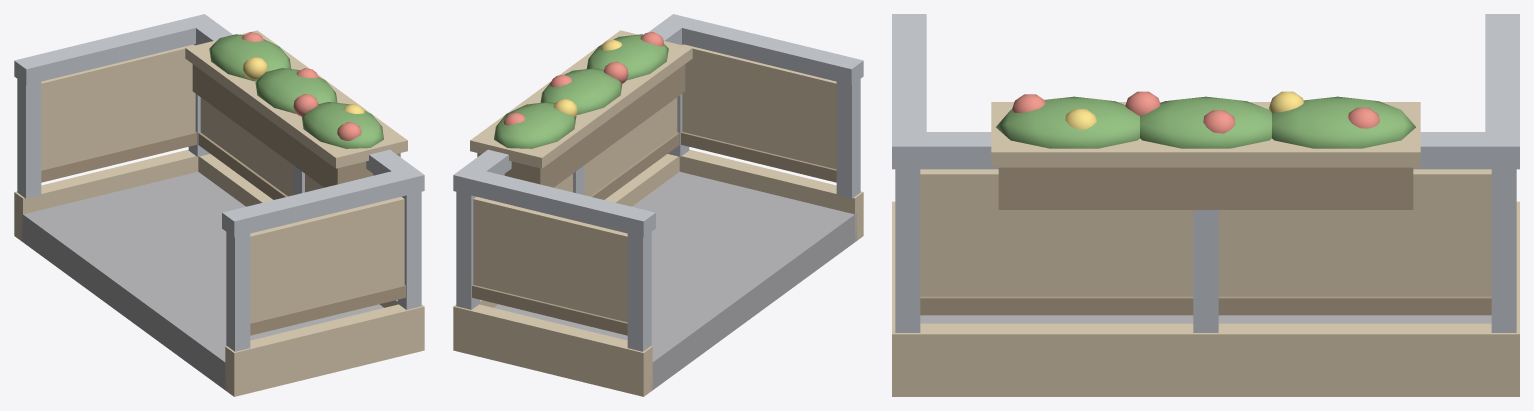
Rendered from building.balcony.glb.
The picture shows the model from 3 angles, left to right: view 1: azimuth 30°, elevation 25°; view 2: azimuth 150°, elevation 25°; view 3: azimuth 270°, elevation 25°; orthographic projection. The views are drawn at different scales.
Parts seen in each view (by area): view 1: Paint, Stone, Metal, PaintDark, Leaf, FruitRed, FruitGold; view 2: Paint, Stone, Metal, PaintDark, Leaf, FruitRed, FruitGold; view 3: Paint, PaintDark, Metal, Leaf, Stone, FruitRed, FruitGold.
Part boxes in pixels (left/top/right/bottom): Paint: left=14, top=30, right=424, bottom=396; Stone: left=20, top=172, right=383, bottom=390; Metal: left=14, top=14, right=424, bottom=351; PaintDark: left=41, top=64, right=405, bottom=335; Leaf: left=209, top=34, right=383, bottom=148; FruitRed: left=241, top=32, right=361, bottom=140; FruitGold: left=243, top=57, right=364, bottom=113; Paint: left=453, top=30, right=863, bottom=396; Stone: left=494, top=172, right=857, bottom=391; Metal: left=453, top=14, right=863, bottom=351; PaintDark: left=472, top=64, right=836, bottom=335; Leaf: left=494, top=34, right=668, bottom=148; FruitRed: left=503, top=31, right=664, bottom=125; FruitGold: left=553, top=39, right=621, bottom=117; Paint: left=892, top=102, right=1519, bottom=396; PaintDark: left=920, top=167, right=1491, bottom=315; Metal: left=892, top=14, right=1519, bottom=332; Leaf: left=996, top=96, right=1415, bottom=148; Stone: left=920, top=315, right=1491, bottom=323; FruitRed: left=1012, top=91, right=1379, bottom=133; FruitGold: left=1065, top=91, right=1303, bottom=129.
Size of the model in its own units: 0.547 by 0.4976 by 1.
